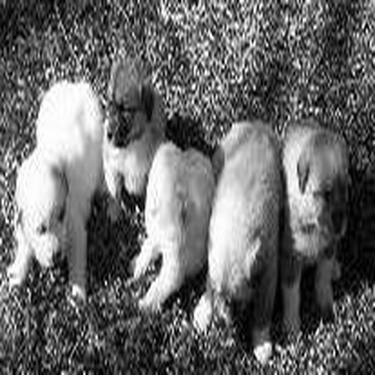dog: (193, 110, 285, 363), (11, 68, 105, 313), (278, 110, 350, 341), (134, 137, 217, 319), (96, 54, 171, 223)
